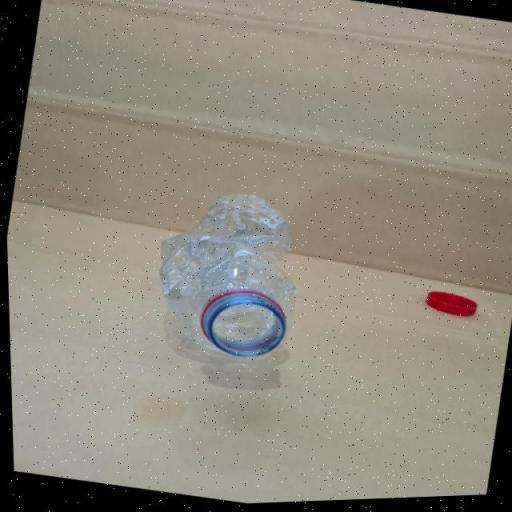plastic: (134, 176, 316, 386)
